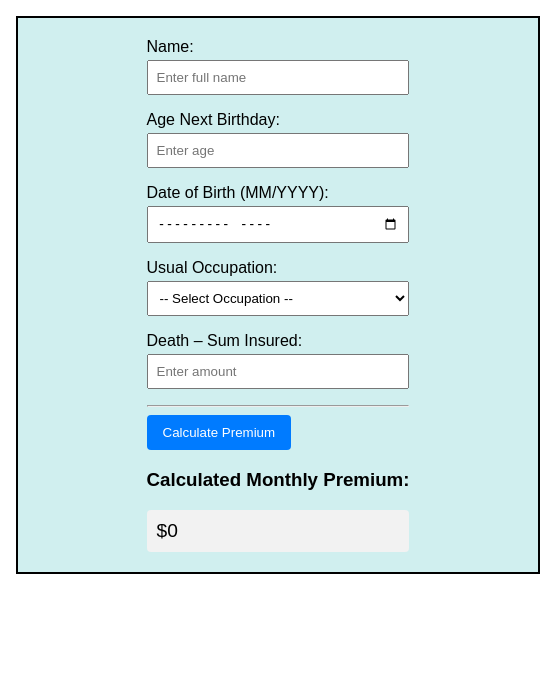
Test case: UserForm Component › shows validation errors when submitting empty form
The width and height of the screenshot is (557, 691).
Step 1. Click the button "Calculate Premium" → x=219, y=433, box [146,415,291,450]
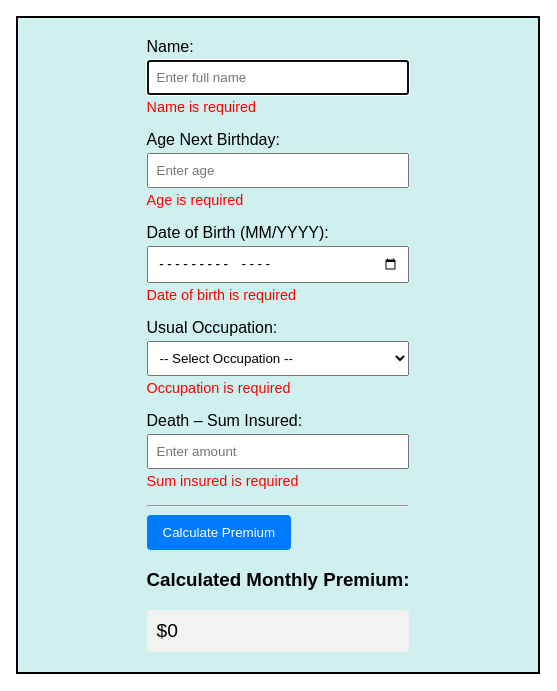
Expected: the text "Age is required" is shown, [146,192,243,208]
Expected: the text "Name is required" is shown, [146,99,256,115]
Expected: the text "Occupation is required" is shown, [146,380,290,396]
